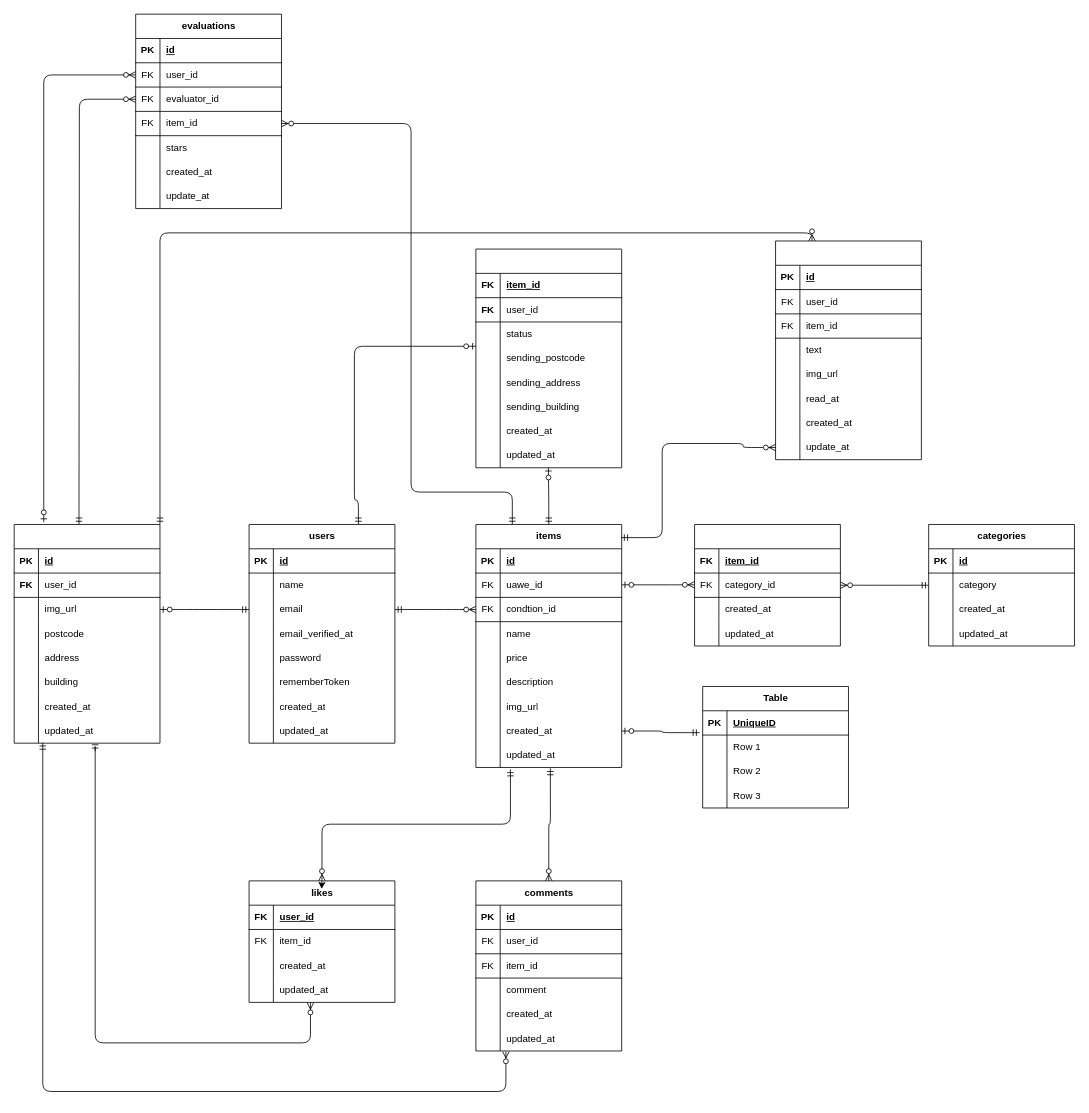
The diagram is 1089 pixels wide and 1113 high, and some of its shapes have lost their labels. Each missing label, with the box of its shape:
category_items: (694, 524, 840, 646)
messages: (775, 240, 921, 460)
profiles: (13, 524, 160, 743)
sold_items: (475, 248, 622, 468)
